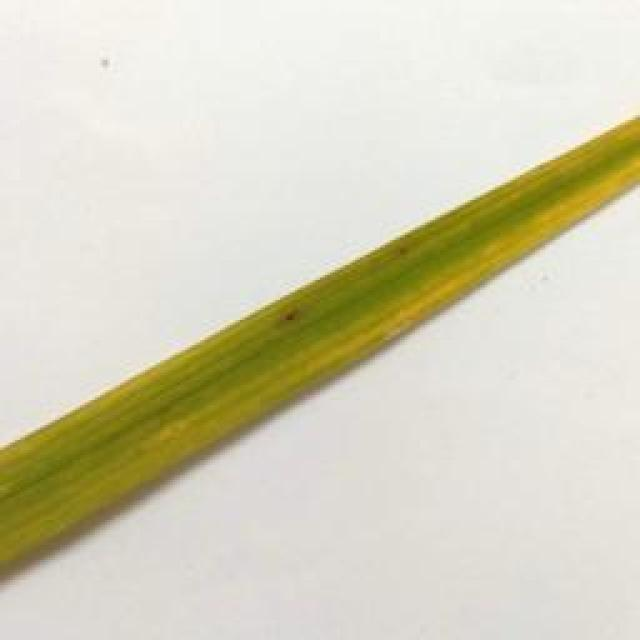Bacterial_Blight: (380, 147, 640, 355)
Brown_Spot: (374, 235, 428, 269), (270, 299, 320, 332)
